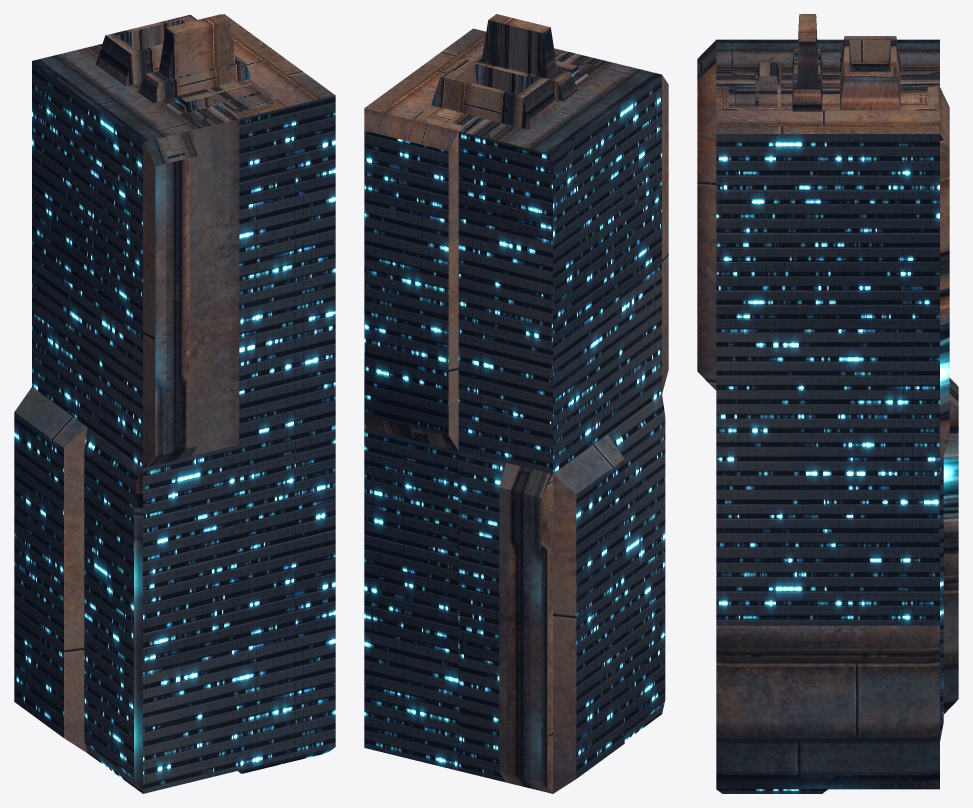
File: 2026-commercial-building-5.glb
3 renders of one model, left to right at view 1: azimuth 30°, elevation 25°; view 2: azimuth 150°, elevation 25°; view 3: azimuth 270°, elevation 25°, orthographic. The views are drawn at different scales.
Parts seen in each view (by area): view 1: 2026-commercial-building-5; view 2: 2026-commercial-building-5; view 3: 2026-commercial-building-5.
Boxes of the visible parts, x1,y1,x2,y2 form: 2026-commercial-building-5: (14,14,335,793); 2026-commercial-building-5: (364,14,668,793); 2026-commercial-building-5: (697,14,958,793).
Bounding box in the file's own units: 57.41 × 183 × 59.78.
Materials: 1 (1 with a texture image).
